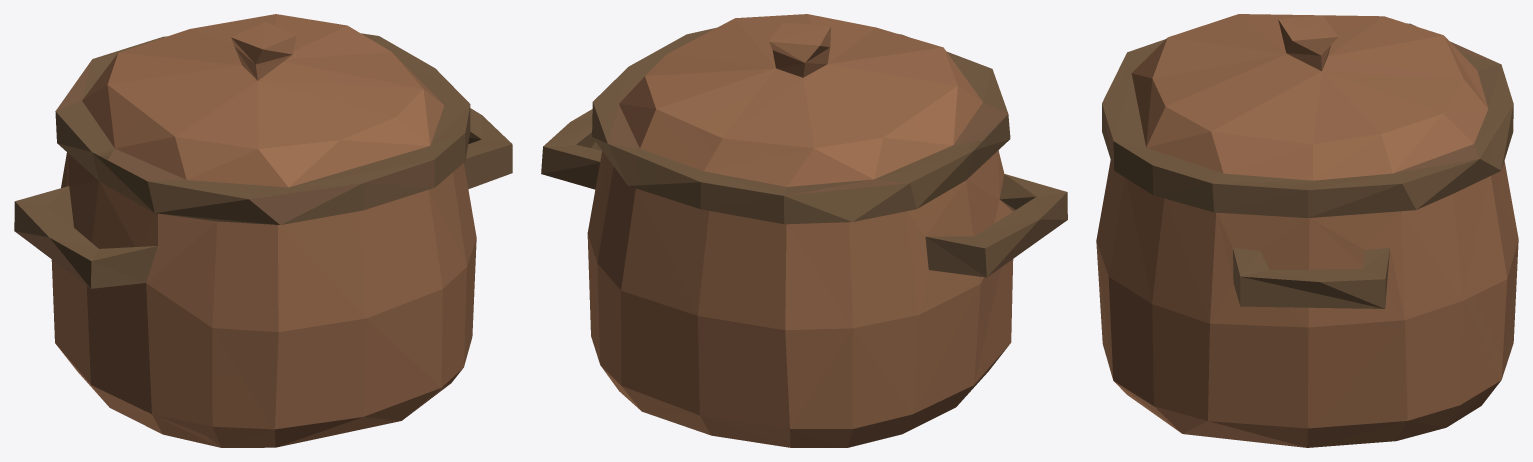
Rendered from mdvl_props_pot_01.fbx.
3 renders of one model, left to right at view 1: azimuth 30°, elevation 25°; view 2: azimuth 150°, elevation 25°; view 3: azimuth 270°, elevation 25°, orthographic. The views are drawn at different scales.
Parts seen in each view (by area): view 1: mdvl_props_pot_01; view 2: mdvl_props_pot_01; view 3: mdvl_props_pot_01.
Boxes of the visible parts, x1=… form: mdvl_props_pot_01: x1=14, y1=14, x2=512, y2=447; mdvl_props_pot_01: x1=541, y1=14, x2=1067, y2=447; mdvl_props_pot_01: x1=1096, y1=14, x2=1518, y2=447.
Bounding box in the file's own units: 36.98 × 26.63 × 29.25.
